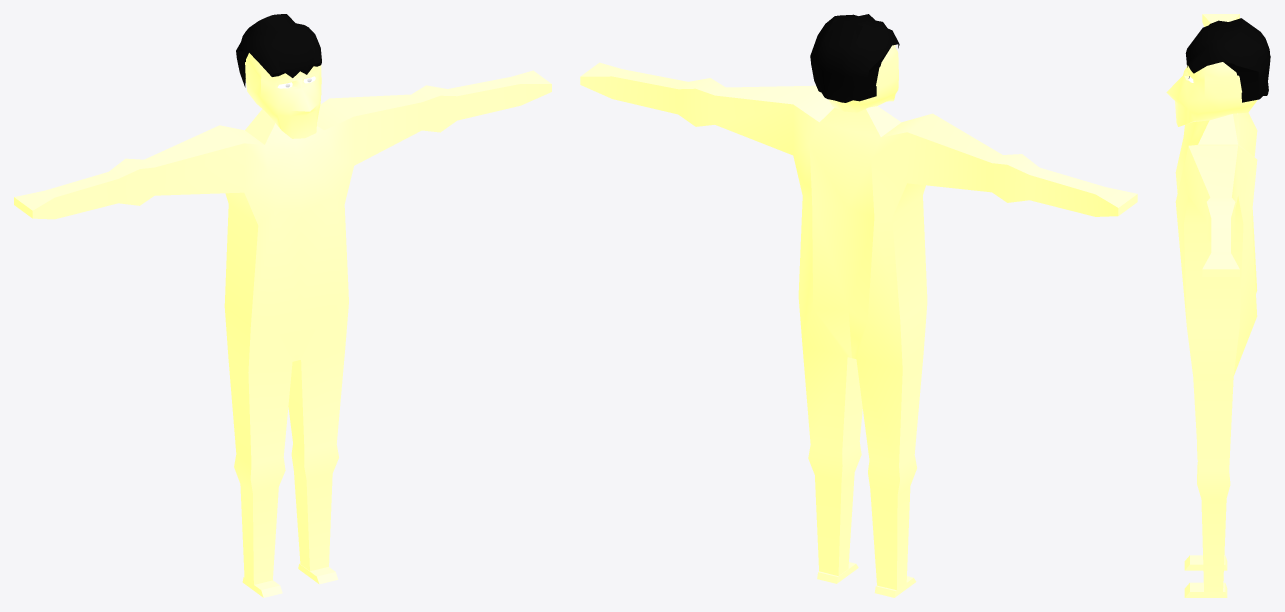
Rendered from LowPoly.glb.
3 renders of one model, left to right at view 1: azimuth 30°, elevation 25°; view 2: azimuth 150°, elevation 25°; view 3: azimuth 270°, elevation 25°, orthographic. The views are drawn at different scales.
Visible parts, largest first — view 1: LoPo; view 2: LoPo; view 3: LoPo.
Part boxes in pixels (bbox=[...]): LoPo: bbox=[14, 14, 551, 597]; LoPo: bbox=[580, 14, 1137, 597]; LoPo: bbox=[1166, 14, 1270, 597].
Bounding box in the file's own units: 3.7 × 3.76 × 0.6392.
